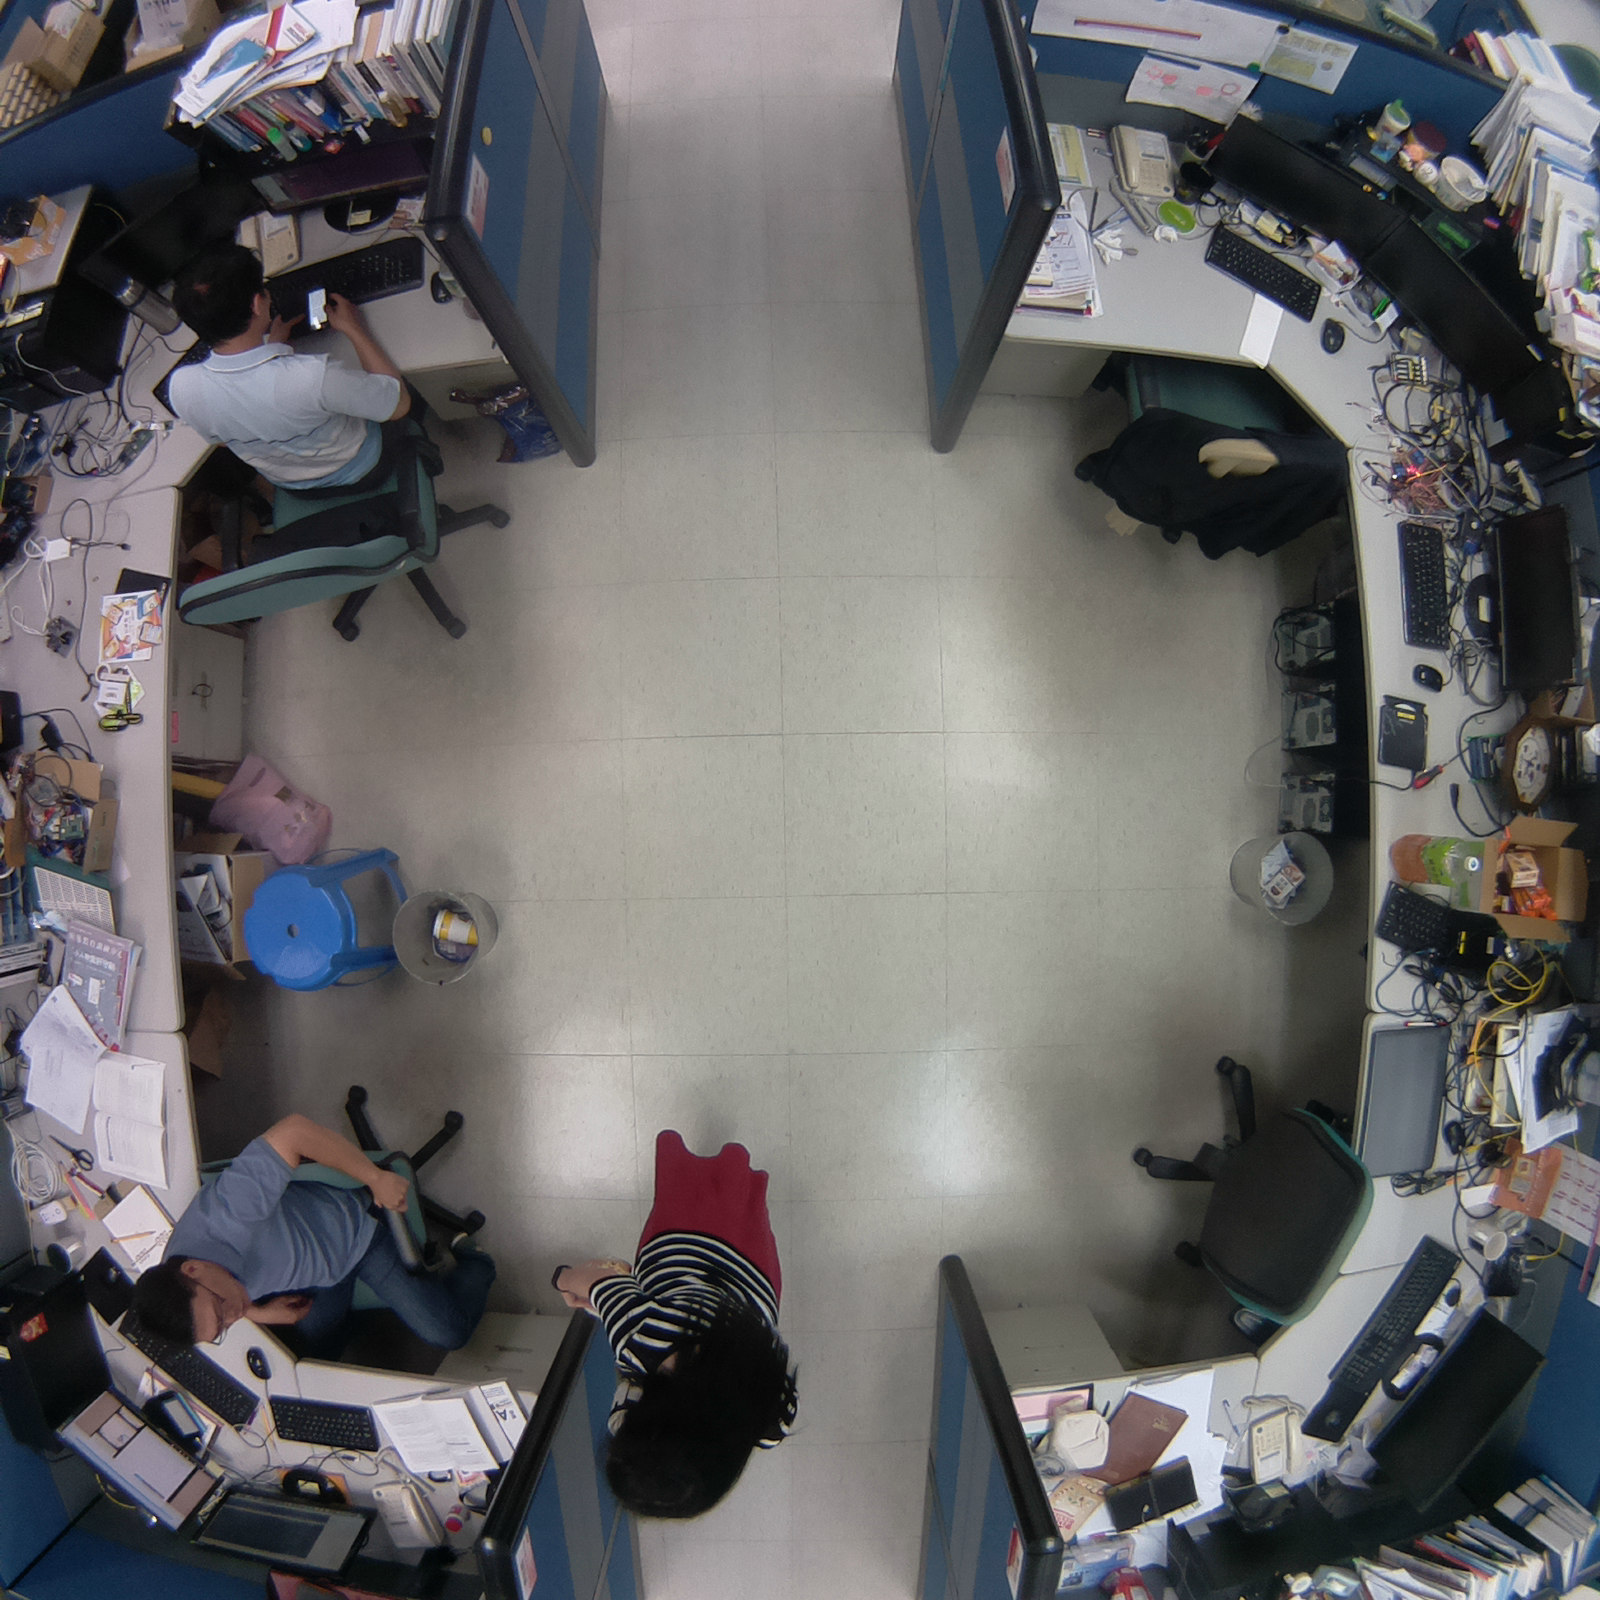chair: (1129, 1032, 1388, 1360), (1060, 337, 1373, 578)
head: (590, 1309, 803, 1531), (163, 229, 283, 349), (121, 1245, 248, 1356)
sitting: (150, 240, 519, 658), (108, 1060, 506, 1383), (544, 1114, 816, 1540)
